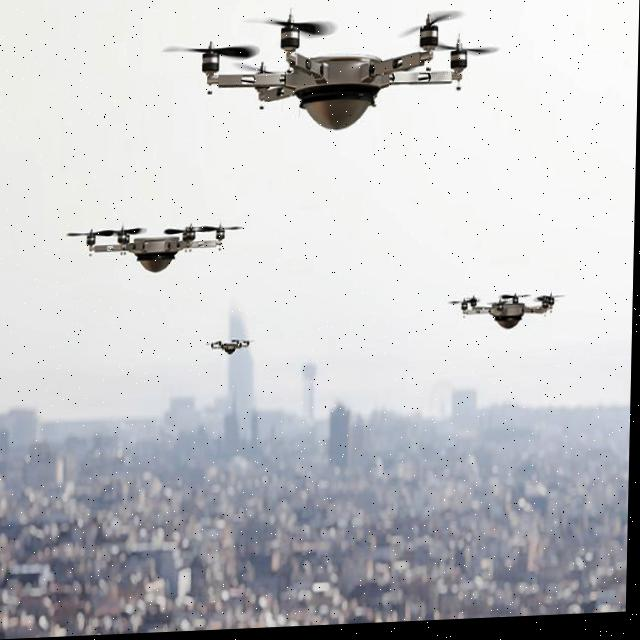drone: (190, 0, 497, 122), (63, 219, 239, 283), (449, 290, 564, 347), (208, 334, 252, 364)
